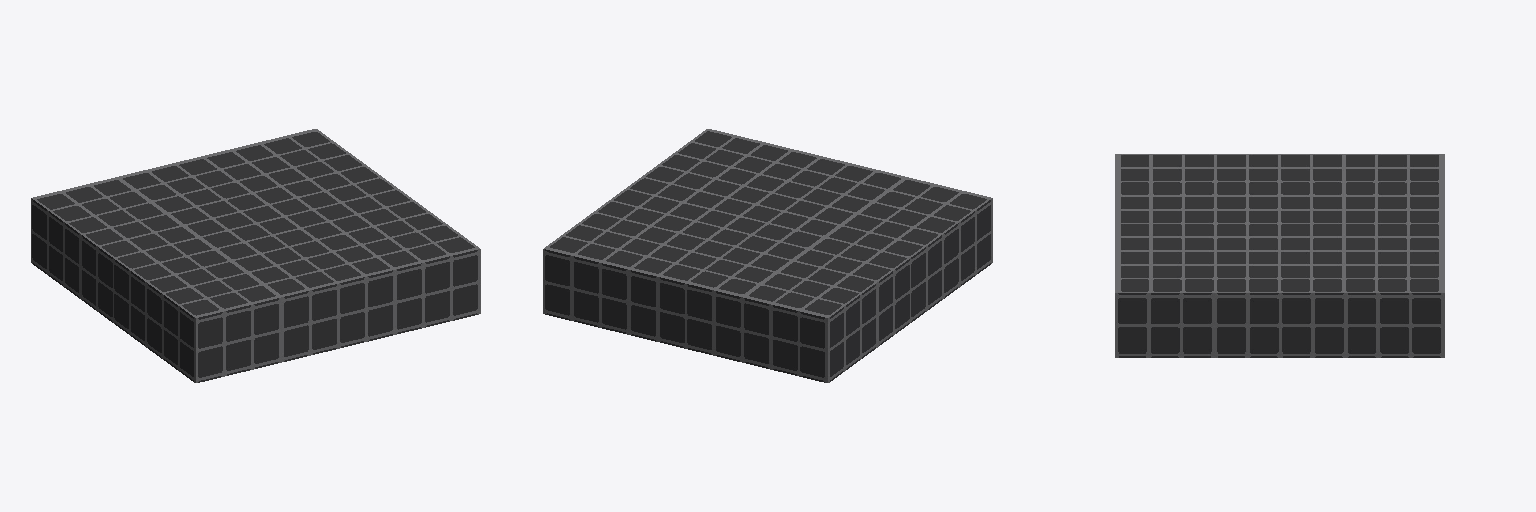
3 renders of one model, left to right at view 1: azimuth 30°, elevation 25°; view 2: azimuth 150°, elevation 25°; view 3: azimuth 270°, elevation 25°, orthographic.
Visible parts, largest first — view 1: Cube1; view 2: Cube1; view 3: Cube1.
Part boxes in pixels (x1,y1,x2,y2): Cube1: (31, 129, 480, 382); Cube1: (543, 129, 992, 382); Cube1: (1115, 154, 1444, 357).
Bounding box in the file's own units: 1014 × 222 × 1014.
Materials: 1 (1 with a texture image).